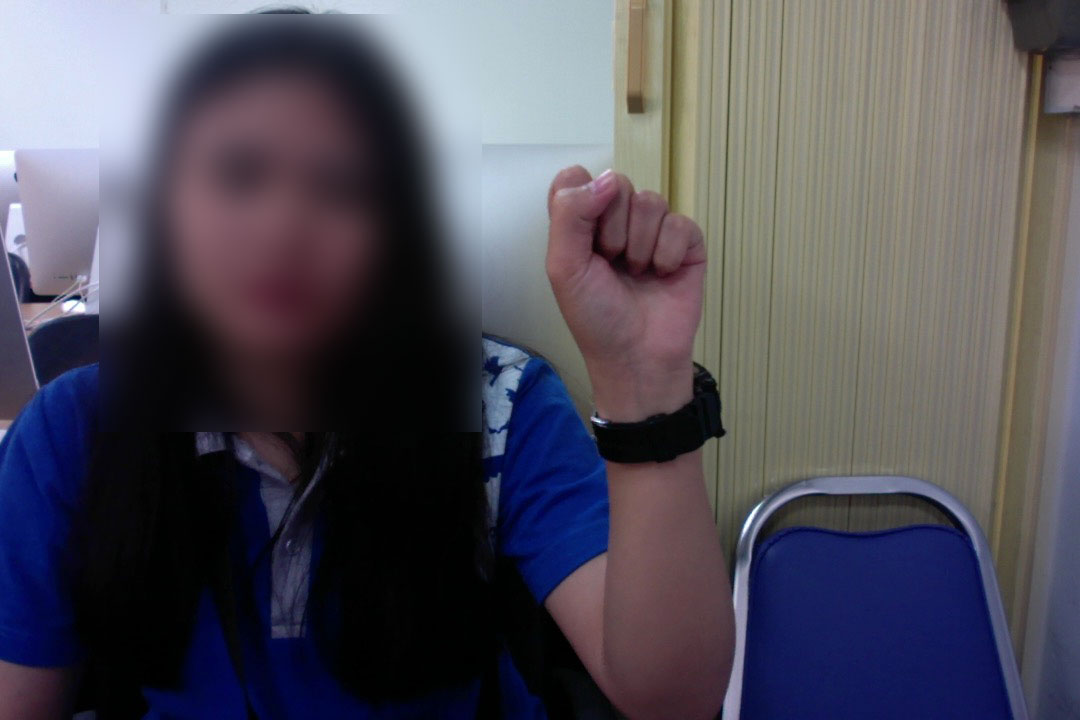sor: (538, 152, 712, 407)
